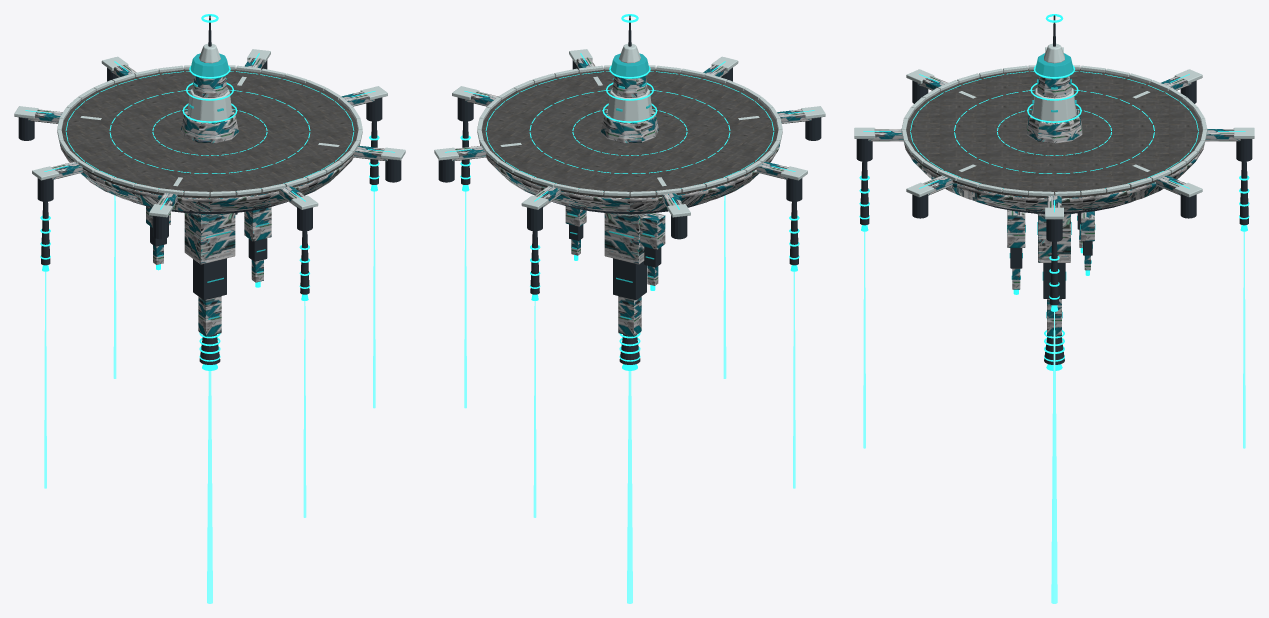
The model's file is tempest-ozone-base-v3.glb.
3 views of the same model, side by side, from view 1: azimuth 30°, elevation 25°; view 2: azimuth 150°, elevation 25°; view 3: azimuth 270°, elevation 25° (orthographic).
Visible parts, largest first — view 1: tempest_ozone_base__lod0__Tempest deck surface, tempest_ozone_base__lod0__Tempest hull plating, tempest_ozone_base__lod0__Tempest light armor, tempest_ozone_base__lod0__Tempest structural frame, tempest_ozone_base__lod0__Tempest lift beam, tempest_ozone_base__lod0__Tempest emissive guidance, tempest_ozone_base__lod0__Tempest recessed glazing; view 2: tempest_ozone_base__lod0__Tempest deck surface, tempest_ozone_base__lod0__Tempest hull plating, tempest_ozone_base__lod0__Tempest light armor, tempest_ozone_base__lod0__Tempest structural frame, tempest_ozone_base__lod0__Tempest lift beam, tempest_ozone_base__lod0__Tempest emissive guidance, tempest_ozone_base__lod0__Tempest recessed glazing; view 3: tempest_ozone_base__lod0__Tempest deck surface, tempest_ozone_base__lod0__Tempest hull plating, tempest_ozone_base__lod0__Tempest light armor, tempest_ozone_base__lod0__Tempest structural frame, tempest_ozone_base__lod0__Tempest emissive guidance, tempest_ozone_base__lod0__Tempest lift beam, tempest_ozone_base__lod0__Tempest recessed glazing.
Boxes of the visible parts, <box> form: tempest_ozone_base__lod0__Tempest deck surface: <box>60,69,359,198</box>; tempest_ozone_base__lod0__Tempest hull plating: <box>28,57,393,336</box>; tempest_ozone_base__lod0__Tempest light armor: <box>14,44,405,217</box>; tempest_ozone_base__lod0__Tempest structural frame: <box>18,15,401,364</box>; tempest_ozone_base__lod0__Tempest lift beam: <box>44,191,375,603</box>; tempest_ozone_base__lod0__Tempest emissive guidance: <box>25,14,394,370</box>; tempest_ozone_base__lod0__Tempest recessed glazing: <box>157,53,269,319</box>; tempest_ozone_base__lod0__Tempest deck surface: <box>480,69,779,198</box>; tempest_ozone_base__lod0__Tempest hull plating: <box>446,57,811,336</box>; tempest_ozone_base__lod0__Tempest light armor: <box>434,44,825,217</box>; tempest_ozone_base__lod0__Tempest structural frame: <box>438,15,821,364</box>; tempest_ozone_base__lod0__Tempest lift beam: <box>464,191,795,603</box>; tempest_ozone_base__lod0__Tempest emissive guidance: <box>445,14,814,370</box>; tempest_ozone_base__lod0__Tempest recessed glazing: <box>567,53,654,319</box>; tempest_ozone_base__lod0__Tempest deck surface: <box>905,68,1203,198</box>; tempest_ozone_base__lod0__Tempest hull plating: <box>868,76,1240,336</box>; tempest_ozone_base__lod0__Tempest light armor: <box>854,43,1254,219</box>; tempest_ozone_base__lod0__Tempest structural frame: <box>856,15,1252,364</box>; tempest_ozone_base__lod0__Tempest emissive guidance: <box>859,14,1249,370</box>; tempest_ozone_base__lod0__Tempest lift beam: <box>863,231,1245,603</box>; tempest_ozone_base__lod0__Tempest recessed glazing: <box>1007,53,1095,318</box>.
Size of the model in its own units: 840 by 1358 by 840.
7 materials, 2 textured.
